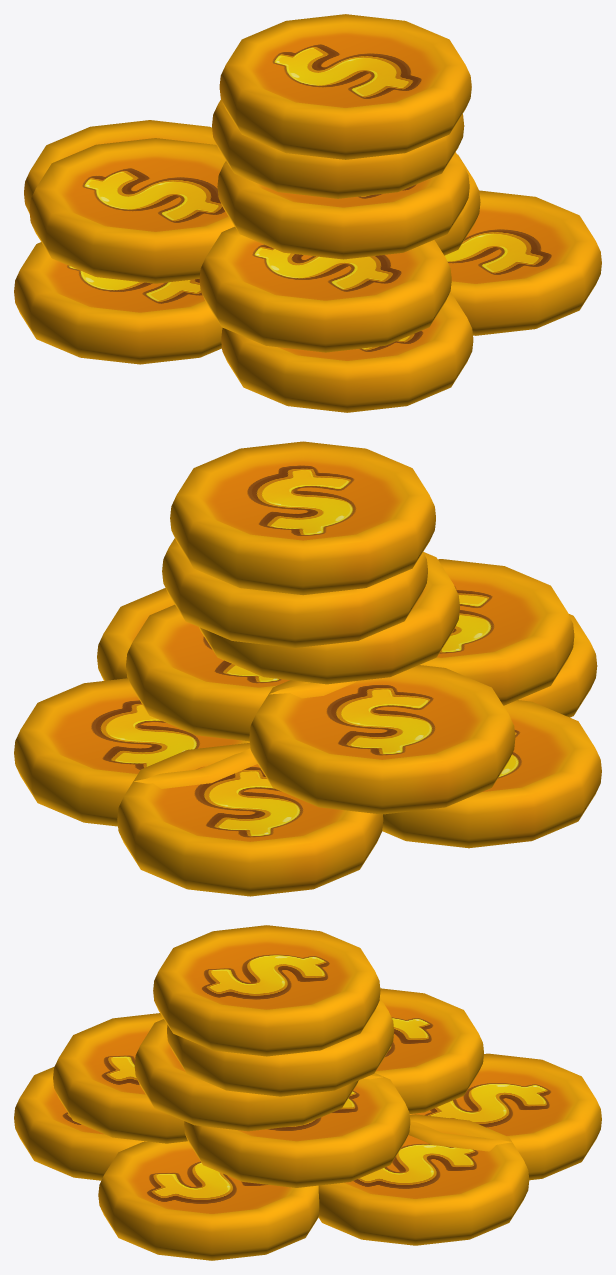
Rendered from Coin03.fbx.
The picture shows the model from 3 angles, top to bottom: view 1: azimuth 30°, elevation 25°; view 2: azimuth 150°, elevation 25°; view 3: azimuth 270°, elevation 25°; orthographic projection. The views are drawn at different scales.
Visible parts, largest first — view 1: Coin.004; view 2: Coin.004; view 3: Coin.004.
Part boxes in pixels (x1,y1,x2,y2): Coin.004: [14, 14, 601, 412]; Coin.004: [14, 441, 601, 896]; Coin.004: [14, 925, 601, 1260].
Bounding box in the file's own units: 252 × 107 × 285.
1 material, 1 textured.
